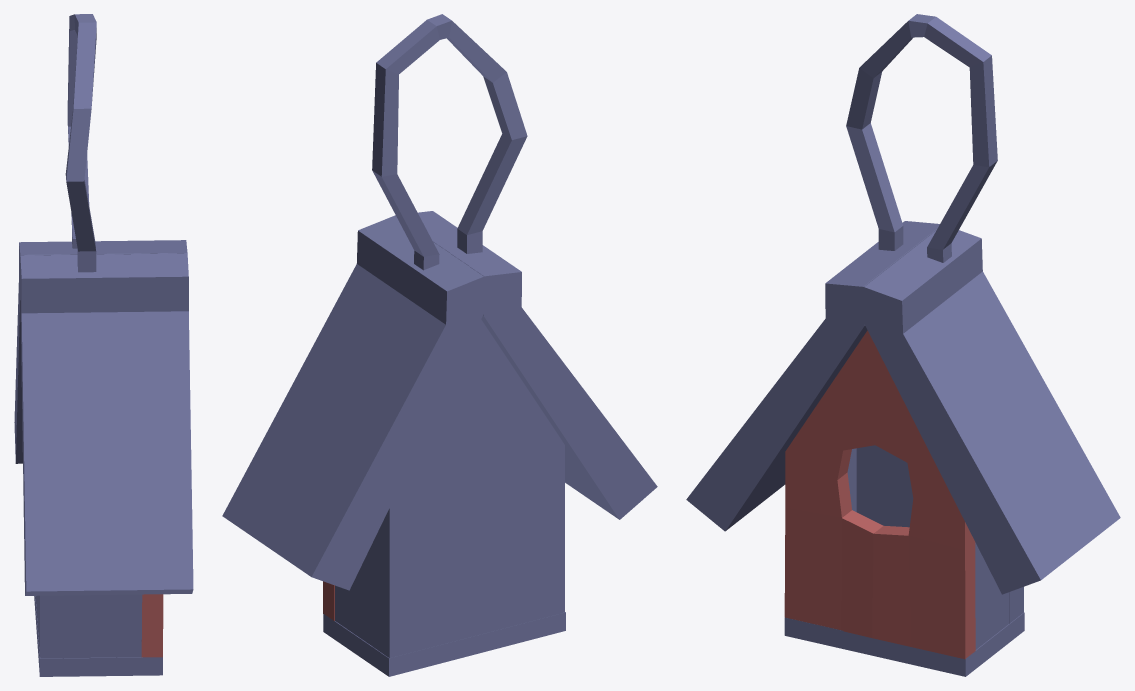
Rendered from Backyard_Feeder.fbx.
The picture shows the model from 3 angles, left to right: view 1: azimuth 30°, elevation 25°; view 2: azimuth 150°, elevation 25°; view 3: azimuth 270°, elevation 25°; orthographic projection.
Visible parts, largest first — view 1: Backyard_Feeder; view 2: Backyard_Feeder; view 3: Backyard_Feeder.
Boxes of the visible parts, x1,y1,x2,y2 form: Backyard_Feeder: (14, 14, 193, 676); Backyard_Feeder: (222, 14, 657, 676); Backyard_Feeder: (686, 14, 1120, 676).
Size of the model in its own units: 33.09 by 65.95 by 42.39.
